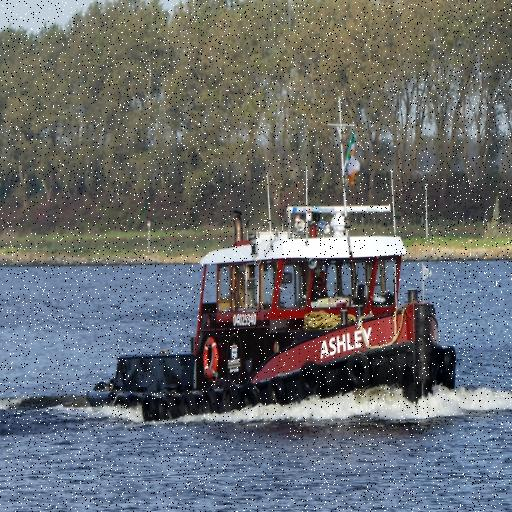tugboat: (82, 94, 465, 439)
